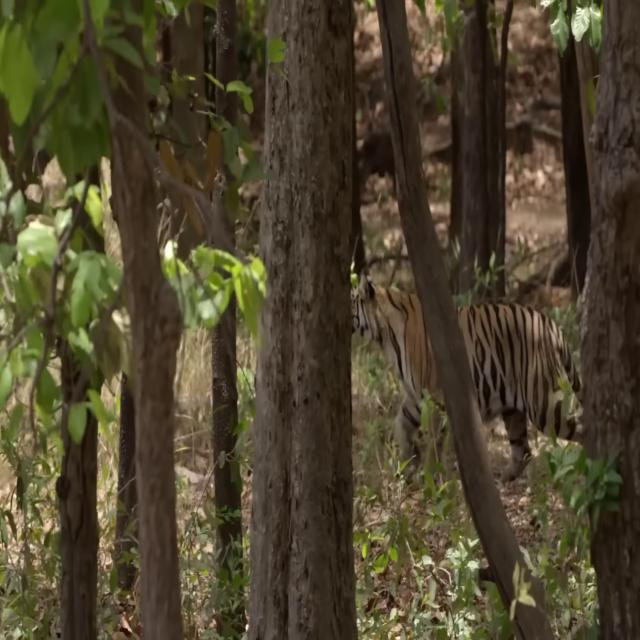tiger: (350, 268, 584, 488)
